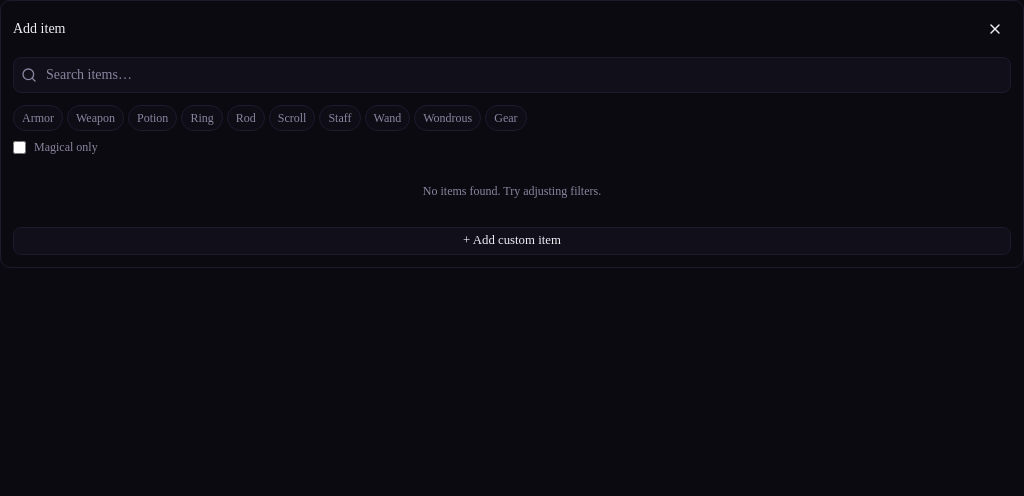
Test case: AddItemPanel › clicking custom item button shows the form
Click the button "+ Add custom item". click: point(512, 241)
box: [13,227,1011,255]
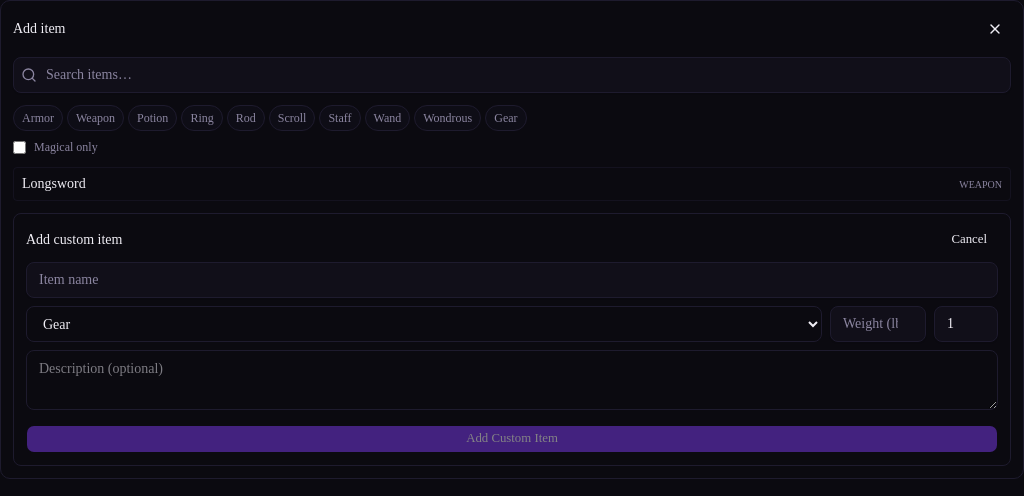
Expected: the field with placeholder "Item name" is shown, [26,262,998,298]
